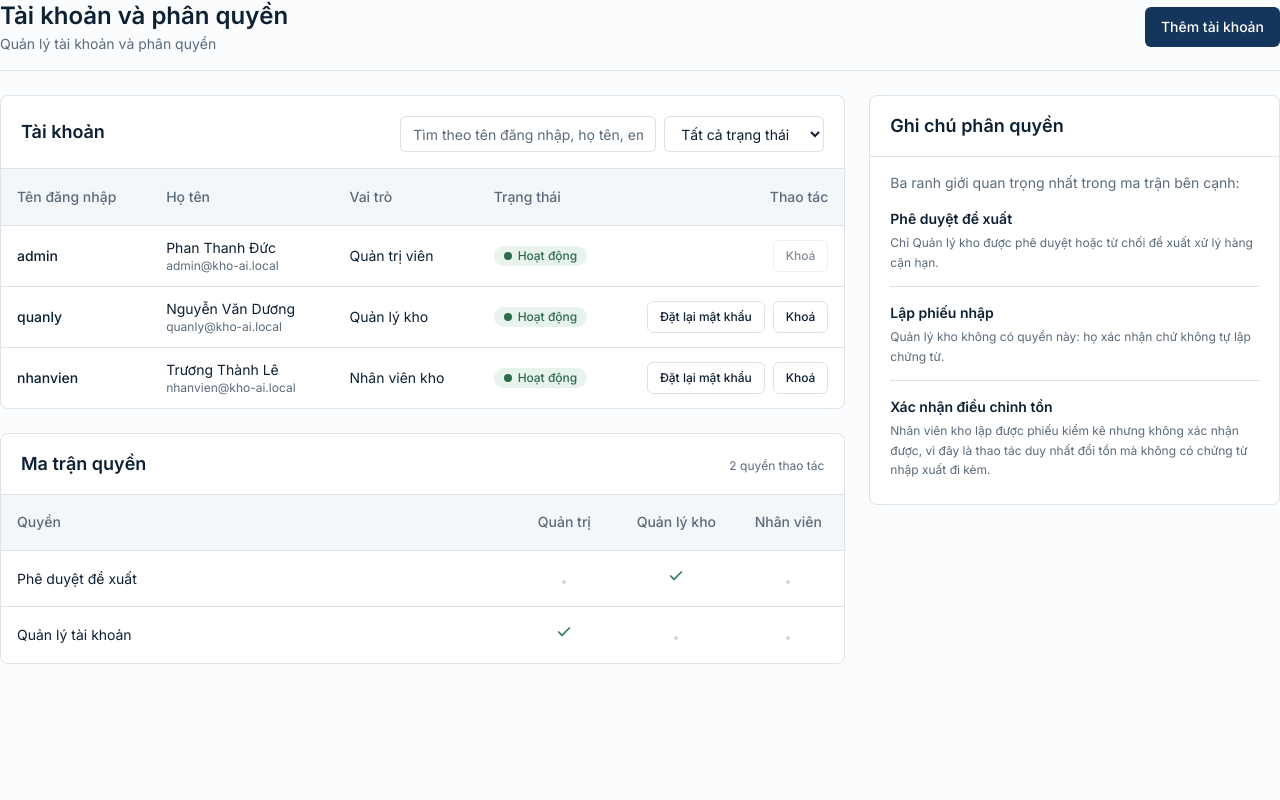
UsersPage (AC8) › chỉ hiện nút Đặt lại mật khẩu ở các dòng không phải chính mình khi có users.manage và mở được dialog (T-020 AC6)
expect the text "Phan Thanh Đức" is shown: met, box x1=166 y1=238 x2=276 y2=256
expect the text "Nguyễn Văn Dương" is shown: met, box x1=166 y1=300 x2=295 y2=316
Click the button "Đặt lại mật khẩu" in the row of "Nguyễn Văn Dương": (706, 316) x1=647 y1=300 x2=765 y2=332
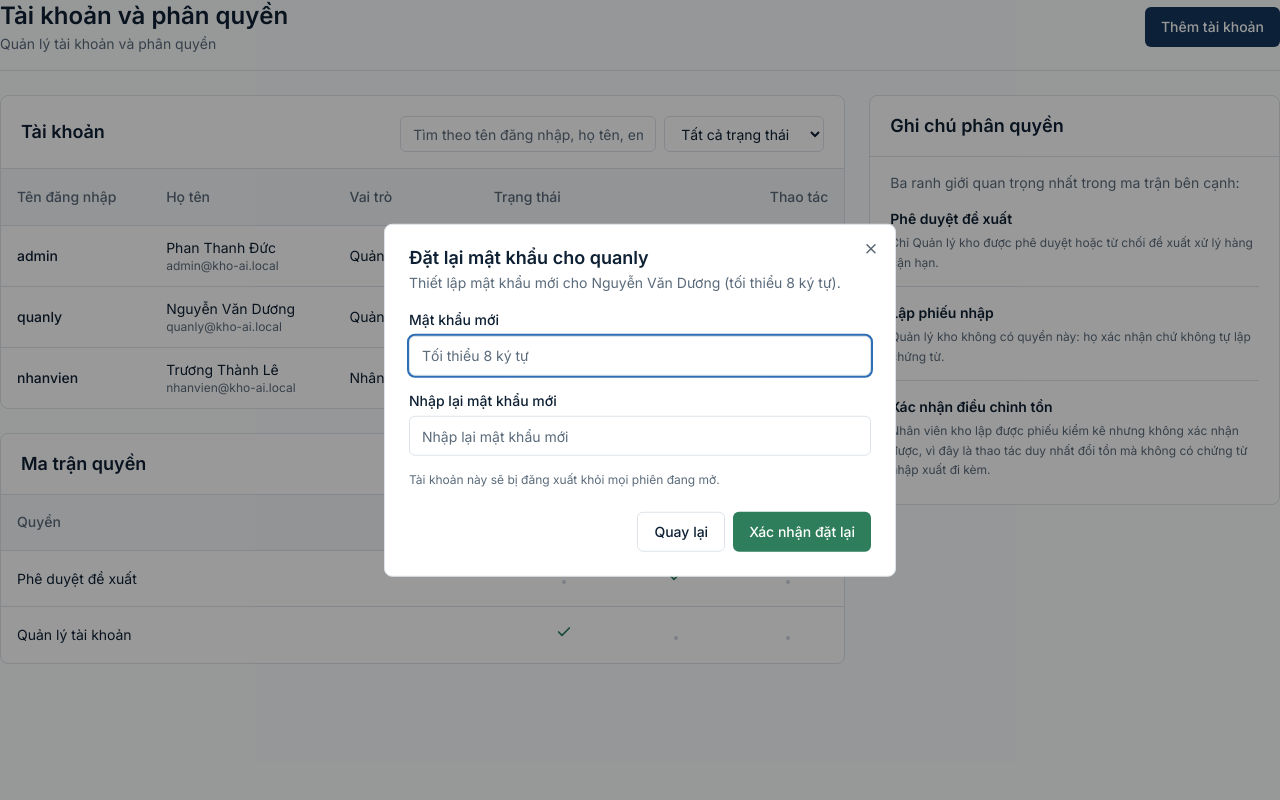
expect the heading "Đặt lại mật khẩu cho quanly" is shown: met, box x1=409 y1=247 x2=649 y2=268
expect the text "Tài khoản này sẽ bị đăng xuất khỏi mọi phiên đang mở." is shown: met, box x1=409 y1=472 x2=720 y2=487
